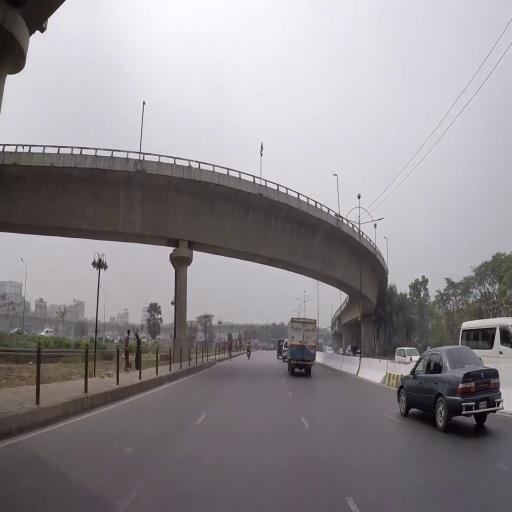car: (396, 344, 506, 436), (326, 347, 335, 355)
minivan: (396, 346, 421, 364), (347, 344, 365, 359)
motorbike: (247, 343, 253, 360)
pickup: (289, 318, 318, 375)
van: (459, 316, 512, 359), (278, 339, 285, 359)
